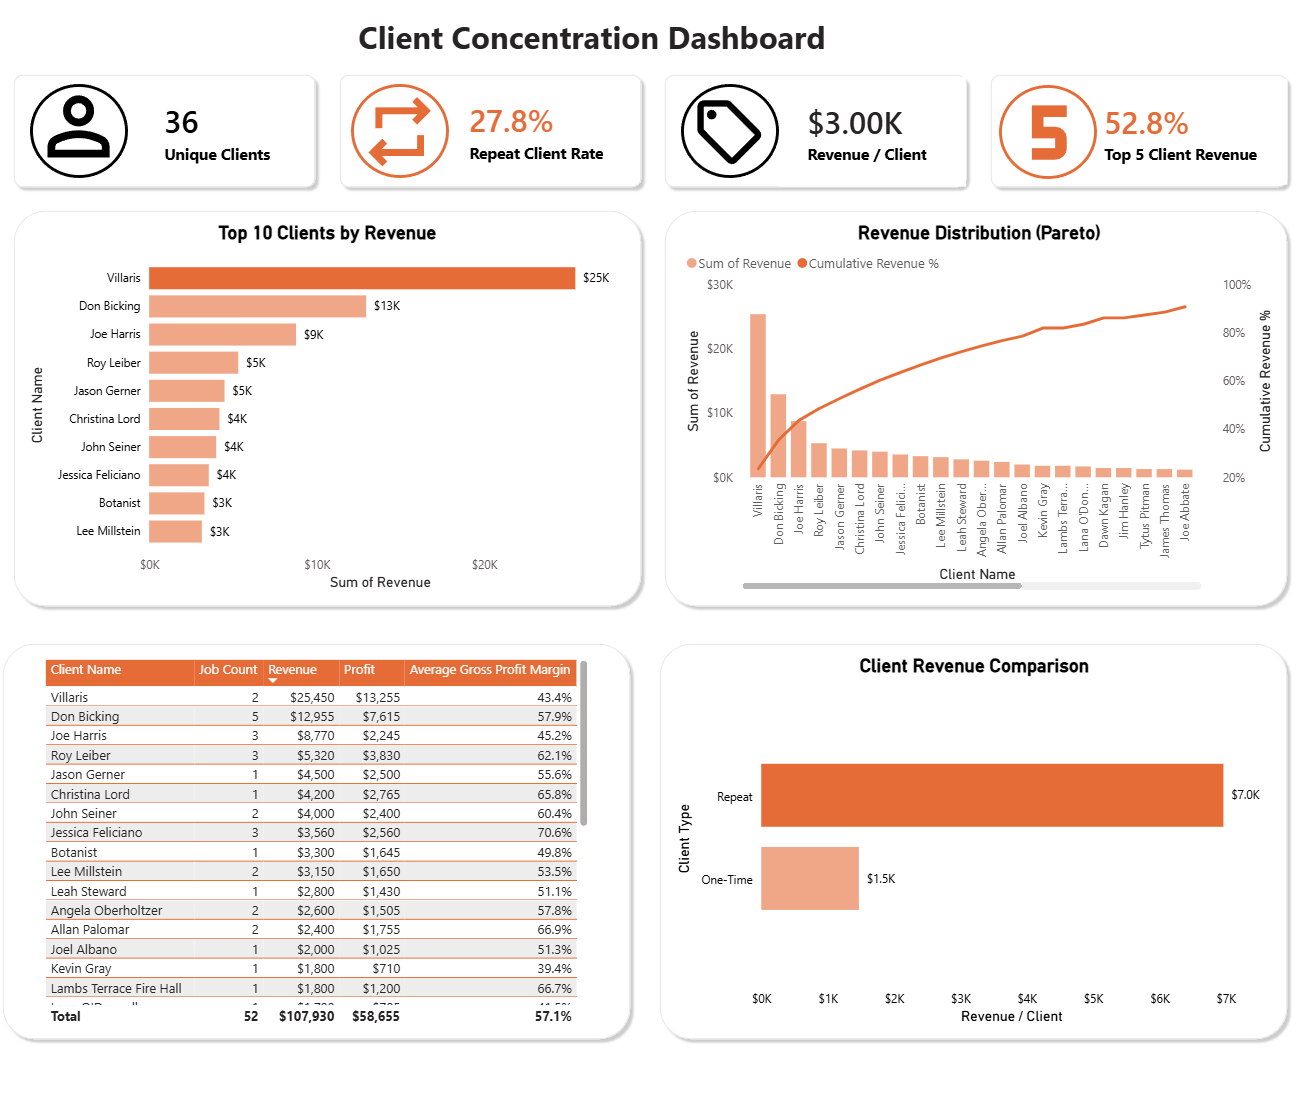

The page's visual inventory and layout, read from the dashboard file:
{"tool":"powerbi","page":{"name":"Page 3","canvas":[1350,1200],"ordinal":2},"visuals":[{"type":"shape","box":[11.3,215.5,660.8,421.6],"z":0},{"type":"shape","box":[682.5,215.5,655.7,421.6],"z":1000},{"type":"shape","box":[347.4,75.3,324.7,129.9],"z":4000},{"type":"shape","box":[682.5,75.3,324.7,129.9],"z":5000},{"type":"shape","box":[11.3,75.3,324.7,129.9],"z":6000},{"type":"shape","box":[1018.6,75.3,319.6,129.9],"z":7000},{"type":"textbox","box":[319.3,15.1,589.6,55.6],"z":8000},{"type":"shape","box":[35.1,91.8,101,96.9],"z":9000},{"type":"shape","box":[0,661.9,660.8,421.6],"z":10000},{"type":"shape","box":[677.3,661.9,660.8,421.6],"z":11000},{"type":"cardVisual","fields":{"Data":["public jobs.Total Clients"]},"box":[144.3,88.7,175.3,104.1],"z":14000},{"type":"cardVisual","fields":{"Data":["public jobs.Repeat Client Rate"]},"box":[458.8,87.6,205.2,104.1],"z":15000},{"type":"image","box":[37.1,82.5,95.9,105.2],"z":16000},{"type":"shape","box":[366,91.8,101,96.9],"z":17000},{"type":"image","box":[373.2,96.9,85.6,87.6],"z":18000},{"type":"cardVisual","fields":{"Data":["public jobs.Average Revenue per Client"]},"box":[807.2,84.5,192.8,113.4],"z":19000},{"type":"shape","box":[706.2,91.8,101,96.9],"z":20000},{"type":"image","box":[716.5,99,79.4,85.6],"z":21000},{"type":"cardVisual","fields":{"Data":["public jobs.Revenue from Top 5 Clients %"]},"box":[1113.4,86.6,217.5,109.3],"z":22000},{"type":"shape","box":[1034,92.8,101,96.9],"z":23000},{"type":"image","box":[1030.9,93.8,106.2,95.9],"z":23001},{"type":"clusteredBarChart","title":"Top 10 Clients by Revenue","fields":{"Category":["public jobs.clientname"],"Y":["Sum(public jobs.Revenue)"]},"box":[29.9,234,623.7,384.5],"z":23002},{"type":"tableEx","fields":{"Values":["public jobs.Client Name","public jobs.Job Count","Sum(public jobs.Revenue)","Sum(public jobs.Profit)","Avg(public jobs.Gross Profit Margin)"]},"box":[45.4,680.4,570.1,385.6],"z":23003},{"type":"clusteredBarChart","title":"Client Revenue Comparison","fields":{"Category":["public jobs.Client Type"],"Y":["public jobs.Revenue / Client"]},"box":[696.9,680.4,623.7,385.6],"z":23004},{"type":"lineStackedColumnComboChart","title":"Revenue Distribution (Pareto)","fields":{"Category":["public jobs.Client Name"],"Y":["Sum(public jobs.Revenue)"],"Y2":["public jobs.Cumulative Revenue %"]},"box":[706.2,234,614.4,384.5],"z":23005}]}

Visuals, with their boxes on the page's 1350x1200 design canvas (x1, y1, x2, y2). These are canvas units, not pixel positions in the 1303x1118 screenshot, which may show the page scaled, cropped or inside an application window:
shape: pyautogui.locateOnScreen(11, 216, 672, 637)
shape: pyautogui.locateOnScreen(682, 216, 1338, 637)
shape: pyautogui.locateOnScreen(347, 75, 672, 205)
shape: pyautogui.locateOnScreen(682, 75, 1007, 205)
shape: pyautogui.locateOnScreen(11, 75, 336, 205)
shape: pyautogui.locateOnScreen(1019, 75, 1338, 205)
textbox: pyautogui.locateOnScreen(319, 15, 909, 71)
shape: pyautogui.locateOnScreen(35, 92, 136, 189)
shape: pyautogui.locateOnScreen(0, 662, 661, 1084)
shape: pyautogui.locateOnScreen(677, 662, 1338, 1084)
cardVisual - public jobs.Total Clients: pyautogui.locateOnScreen(144, 89, 320, 193)
cardVisual - public jobs.Repeat Client Rate: pyautogui.locateOnScreen(459, 88, 664, 192)
image: pyautogui.locateOnScreen(37, 82, 133, 188)
shape: pyautogui.locateOnScreen(366, 92, 467, 189)
image: pyautogui.locateOnScreen(373, 97, 459, 184)
cardVisual - public jobs.Average Revenue per Client: pyautogui.locateOnScreen(807, 84, 1000, 198)
shape: pyautogui.locateOnScreen(706, 92, 807, 189)
image: pyautogui.locateOnScreen(716, 99, 796, 185)
cardVisual - public jobs.Revenue from Top 5 Clients %: pyautogui.locateOnScreen(1113, 87, 1331, 196)
shape: pyautogui.locateOnScreen(1034, 93, 1135, 190)
image: pyautogui.locateOnScreen(1031, 94, 1137, 190)
"Top 10 Clients by Revenue" clusteredBarChart: pyautogui.locateOnScreen(30, 234, 654, 618)
tableEx - public jobs.Client Name x public jobs.Job Count: pyautogui.locateOnScreen(45, 680, 616, 1066)
"Client Revenue Comparison" clusteredBarChart: pyautogui.locateOnScreen(697, 680, 1321, 1066)
"Revenue Distribution (Pareto)" lineStackedColumnComboChart: pyautogui.locateOnScreen(706, 234, 1321, 618)
